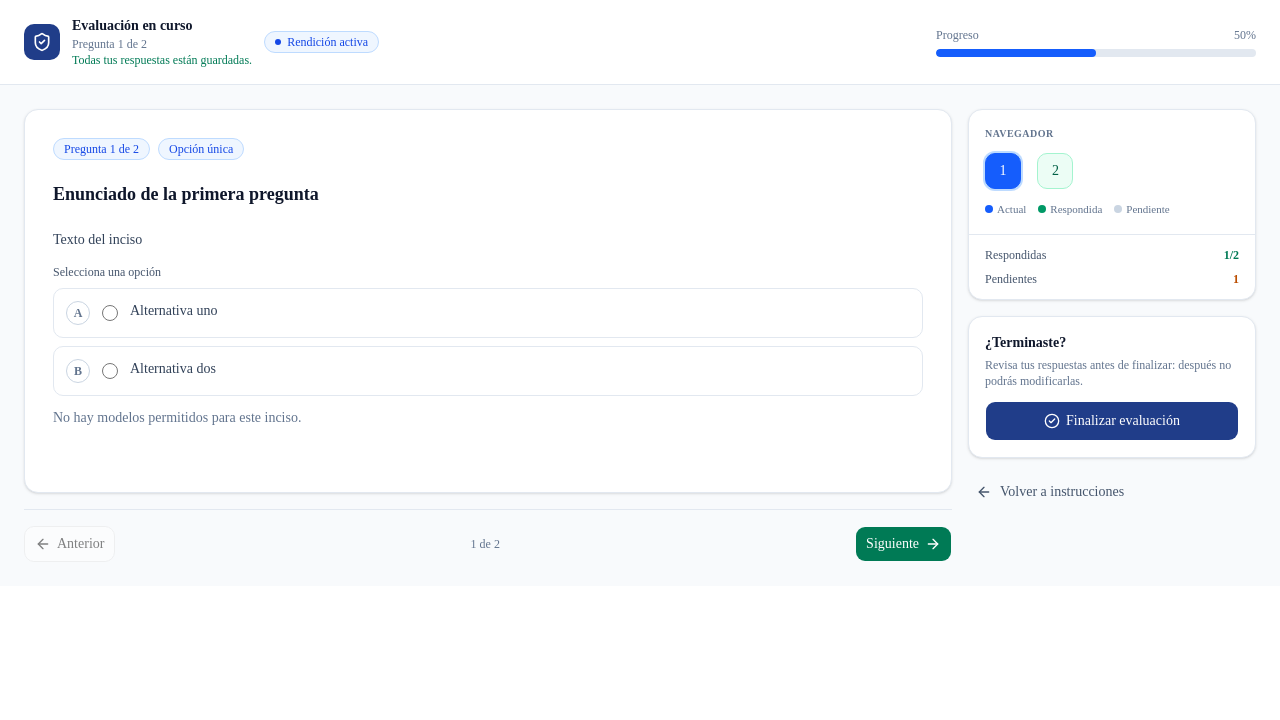
Test case: RendicionEvaluacion › marca respuestas sin guardar cuando falla un guardado
Click the radio button labelled "Alternativa uno". click: {"x": 110, "y": 313}
box: [102,305,118,321]
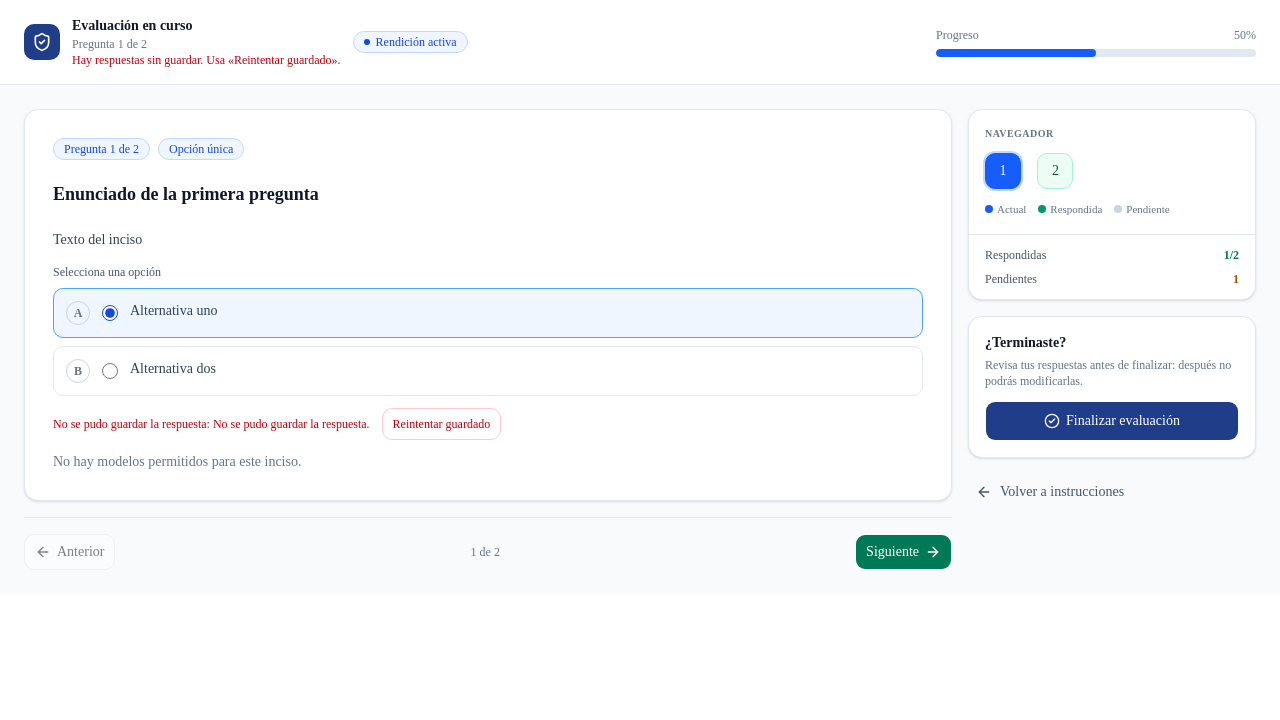
Check: the text "Hay respuestas sin guardar. Usa «Reintentar guardado»." is shown, box [72,52,341,68]
